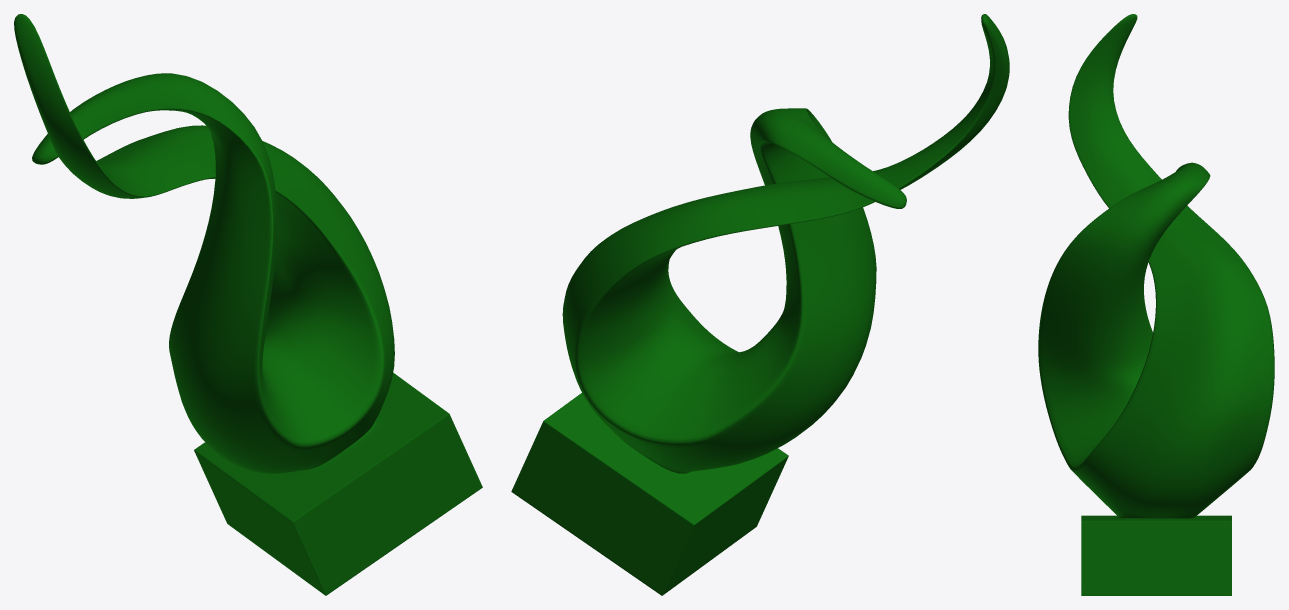
File: flow.FBX
3 renders of one model, left to right at view 1: azimuth 30°, elevation 25°; view 2: azimuth 150°, elevation 25°; view 3: azimuth 270°, elevation 25°, orthographic. The views are drawn at different scales.
Visible parts, largest first — view 1: statue 006; view 2: statue 006; view 3: statue 006.
Part boxes in pixels (box(x1,y1,x2,y2)): statue 006: box(14, 14, 482, 595); statue 006: box(511, 14, 1009, 595); statue 006: box(1038, 14, 1274, 595).
Size of the model in its own units: 14.83 by 20.28 by 9.12.
